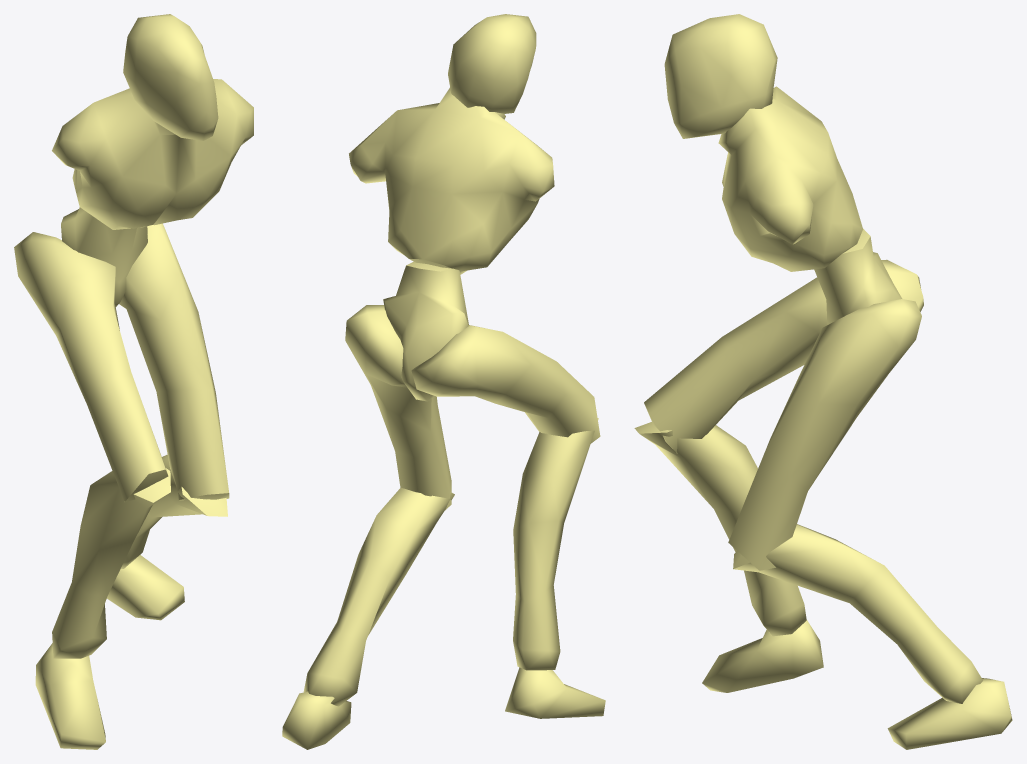
Rendered from filth26.obj.
The picture shows the model from 3 angles, left to right: view 1: azimuth 30°, elevation 25°; view 2: azimuth 150°, elevation 25°; view 3: azimuth 270°, elevation 25°; orthographic projection. The views are drawn at different scales.
Parts seen in each view (by area): view 1: Melee_Husk; view 2: Melee_Husk; view 3: Melee_Husk.
Part boxes in pixels (bbox=[...]): Melee_Husk: bbox=[14, 14, 253, 749]; Melee_Husk: bbox=[282, 14, 605, 749]; Melee_Husk: bbox=[634, 14, 1012, 749].
Size of the model in its own units: 23.23 by 68.77 by 33.26.
